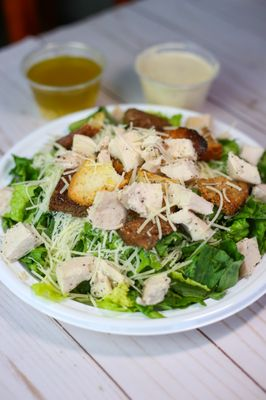sushi: (0, 100, 264, 360)
